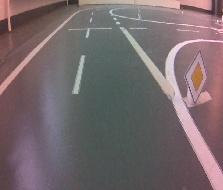priority road sign: (183, 50, 209, 107)
